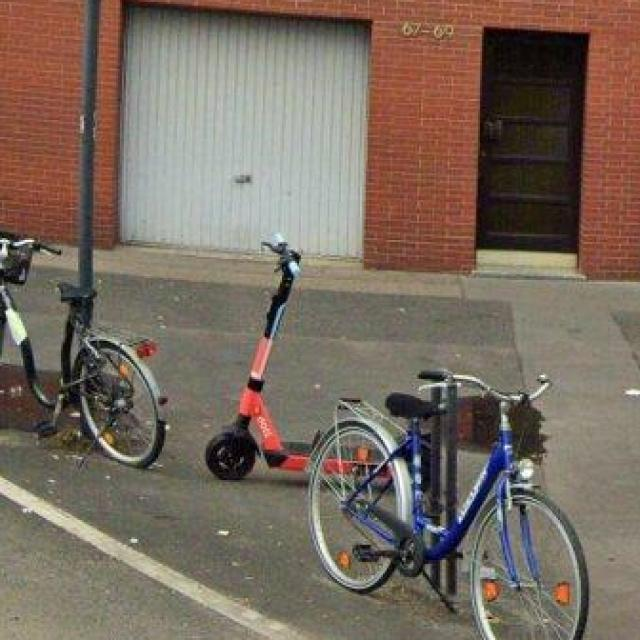bicycle: (298, 321, 600, 640), (0, 222, 175, 476)
